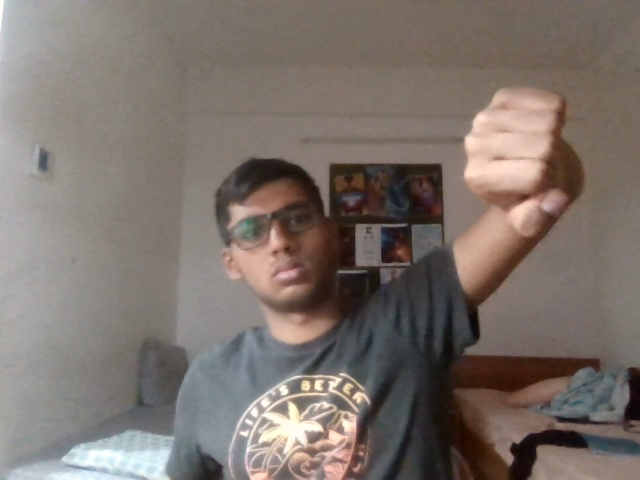yes: (451, 57, 585, 236)
